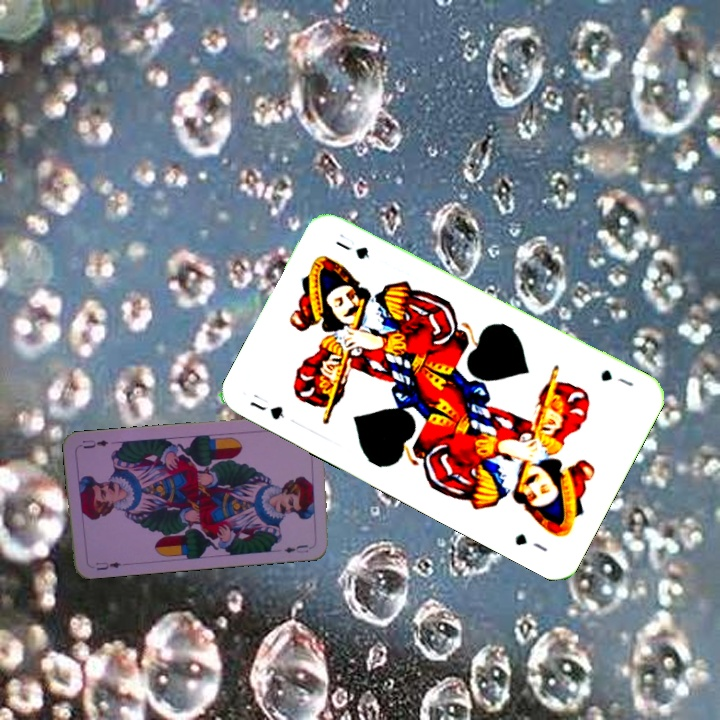EU: (92, 558, 124, 573)
GU: (245, 389, 287, 423), (596, 365, 636, 389)
